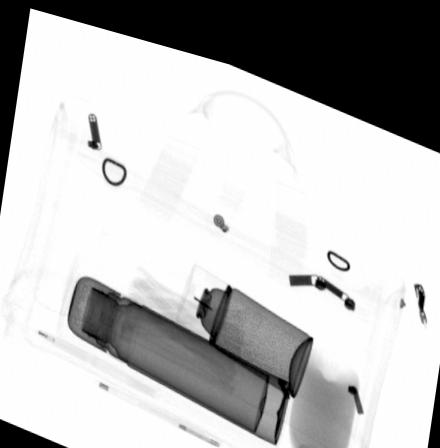Sprayer: (172, 251, 313, 384)
